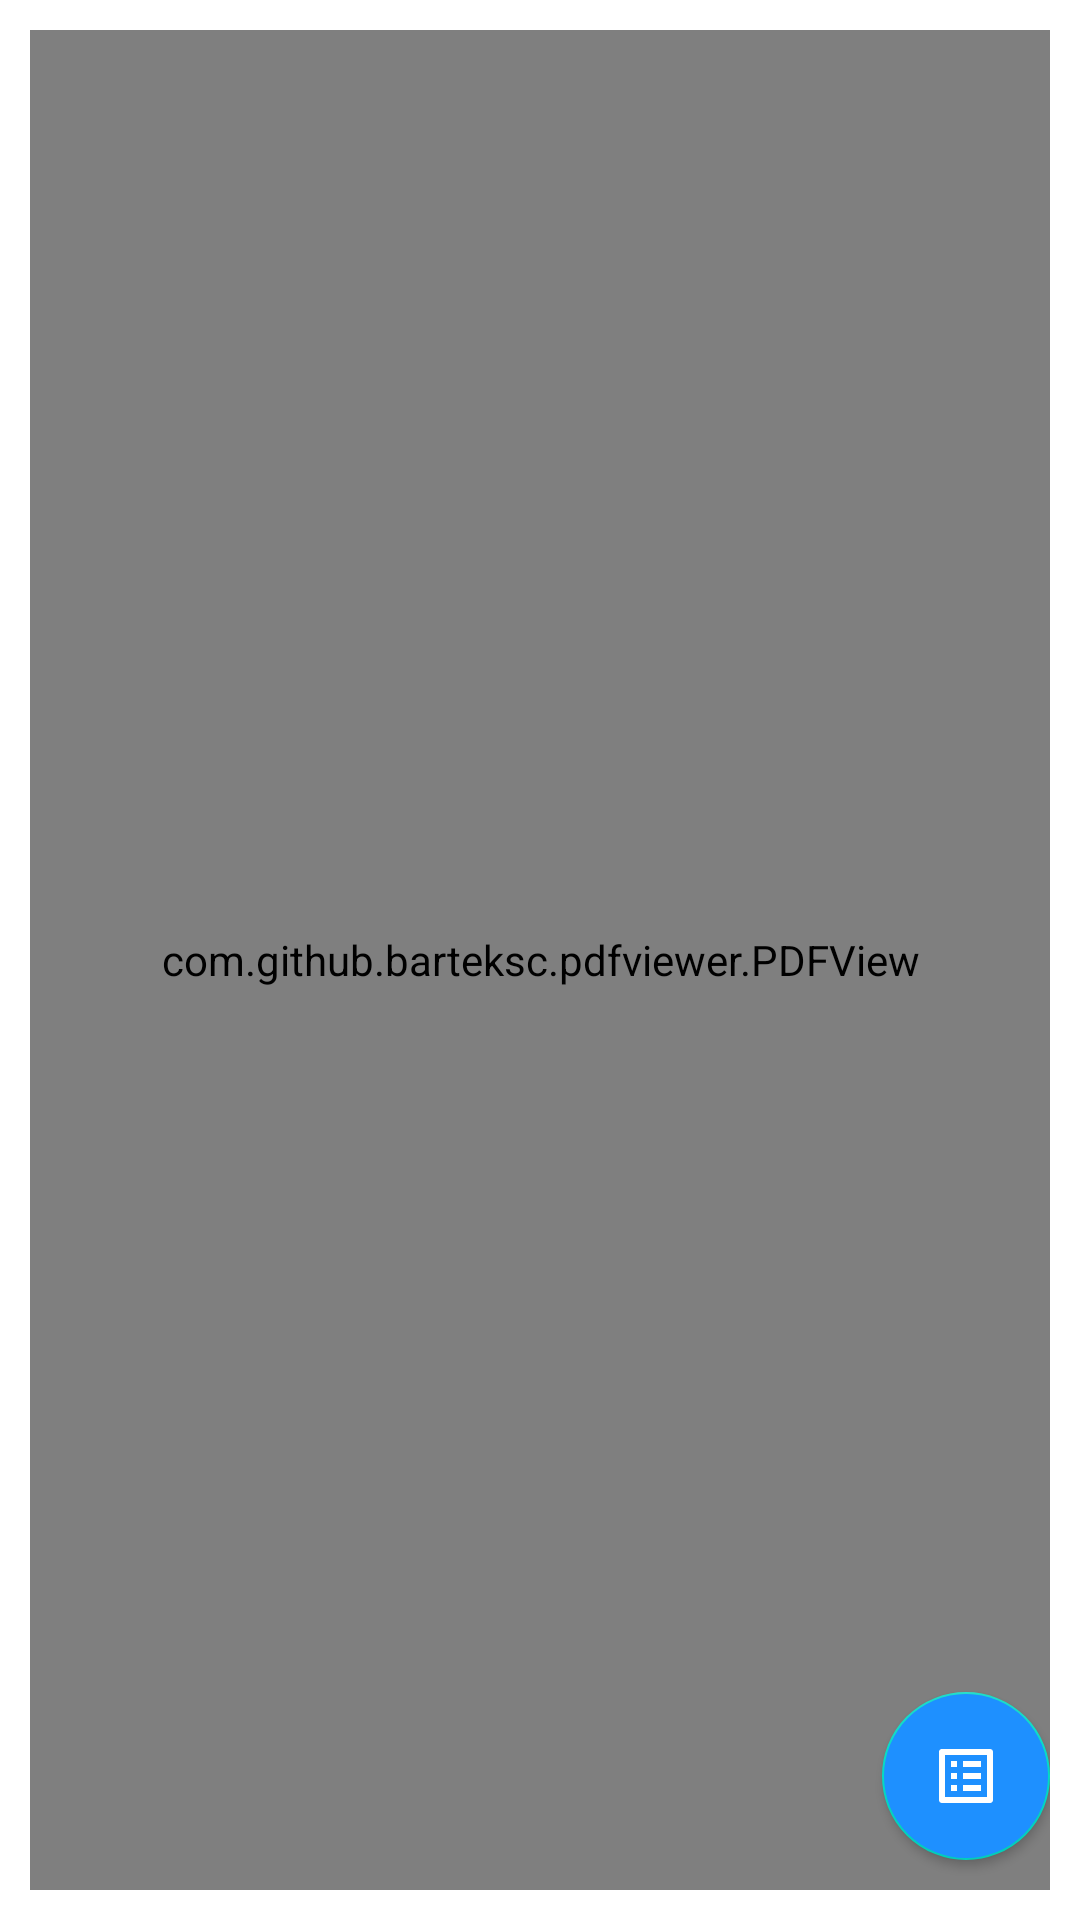

Named icons in this screenshot (1080px×1920px) and their bounding boxes, rect(x1, y1, x2, y2):
list: rect(882, 1692, 1050, 1860)
